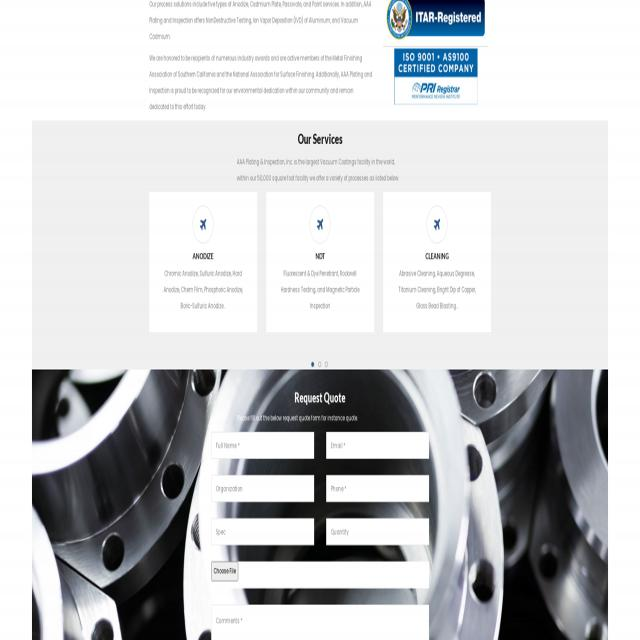button: (149, 190, 257, 334), (384, 192, 492, 334), (266, 193, 375, 333), (383, 47, 488, 106), (383, 0, 488, 46), (211, 563, 238, 581)
field: (211, 604, 429, 640), (211, 562, 429, 588), (211, 518, 314, 546), (326, 518, 429, 546), (211, 432, 314, 459), (326, 432, 429, 459), (211, 476, 314, 502), (326, 476, 429, 502)
